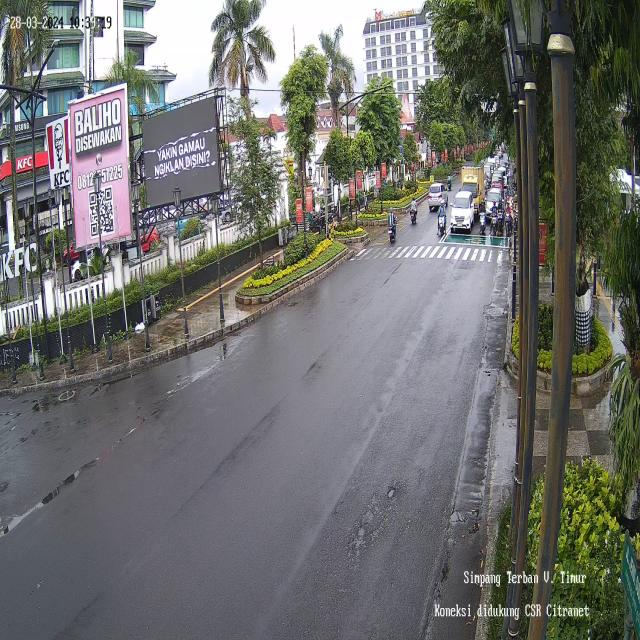car: (451, 190, 474, 232), (427, 183, 448, 211), (486, 188, 503, 218)
motorcycle: (436, 198, 446, 236), (387, 208, 397, 242), (491, 198, 498, 237), (506, 200, 512, 237), (410, 194, 417, 225), (479, 199, 485, 234), (498, 196, 503, 231), (447, 170, 452, 190)
truck: (461, 160, 485, 212)
